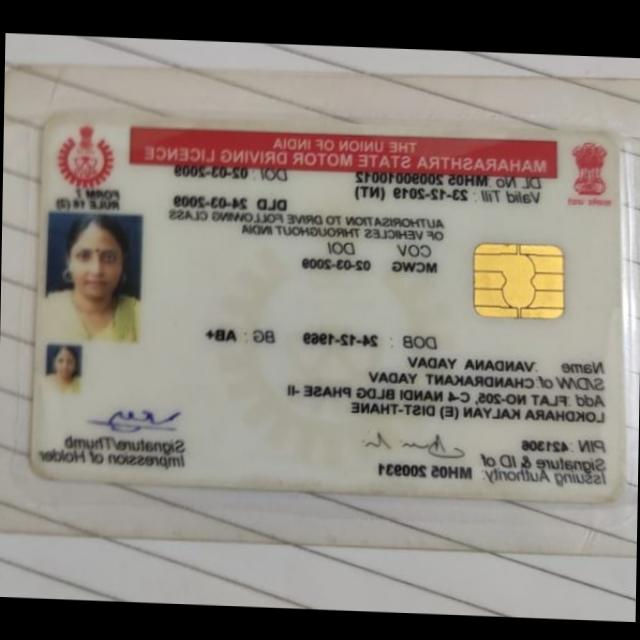driving_licence: (16, 87, 638, 520)
